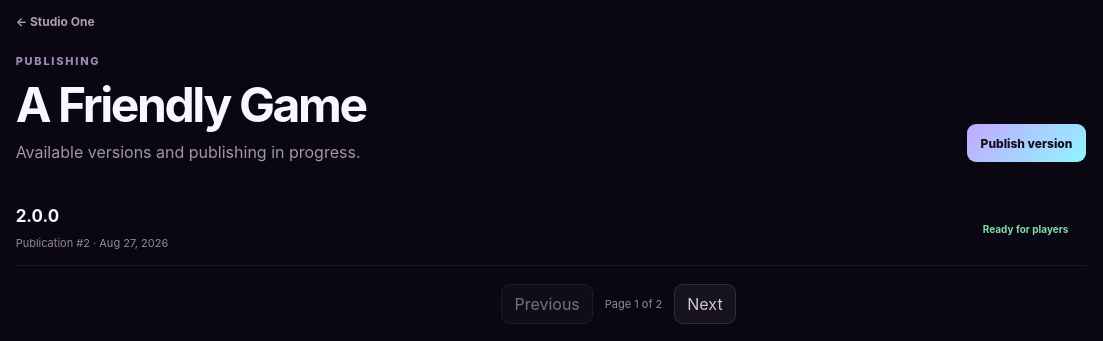
loads the next backend release page
Expected: the text "Page 1 of 2" is shown, [605,297,662,311]
What coordinates should you click on to do the following:
click the button "Next"
I would click on:
 (705, 304)
Its box is [674,284,736,324].
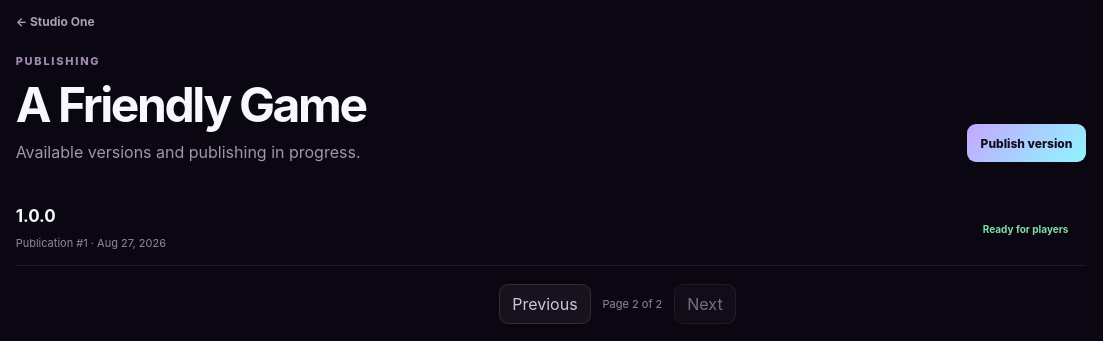
Expected: the text "Page 2 of 2" is shown, [603,297,662,311]
